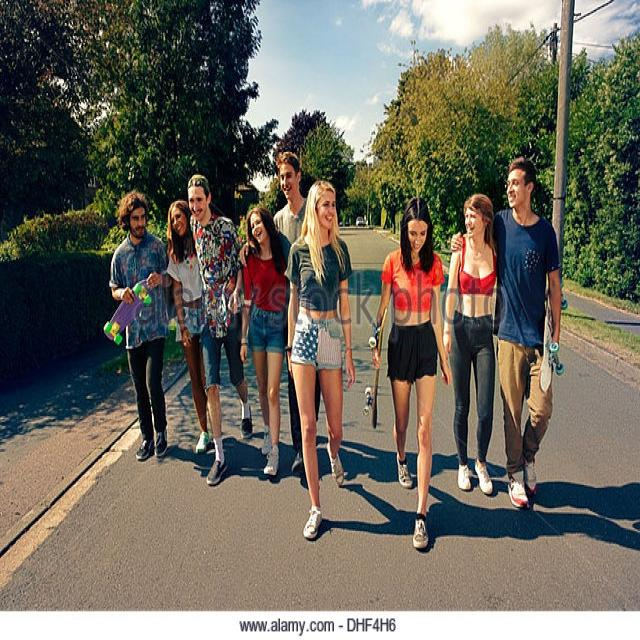body: (447, 149, 569, 511), (315, 432, 640, 551), (236, 147, 337, 480), (371, 195, 452, 551), (281, 172, 357, 542), (185, 172, 254, 488), (101, 182, 178, 464), (161, 197, 238, 456), (440, 191, 500, 498), (239, 205, 288, 478), (167, 432, 309, 492)
